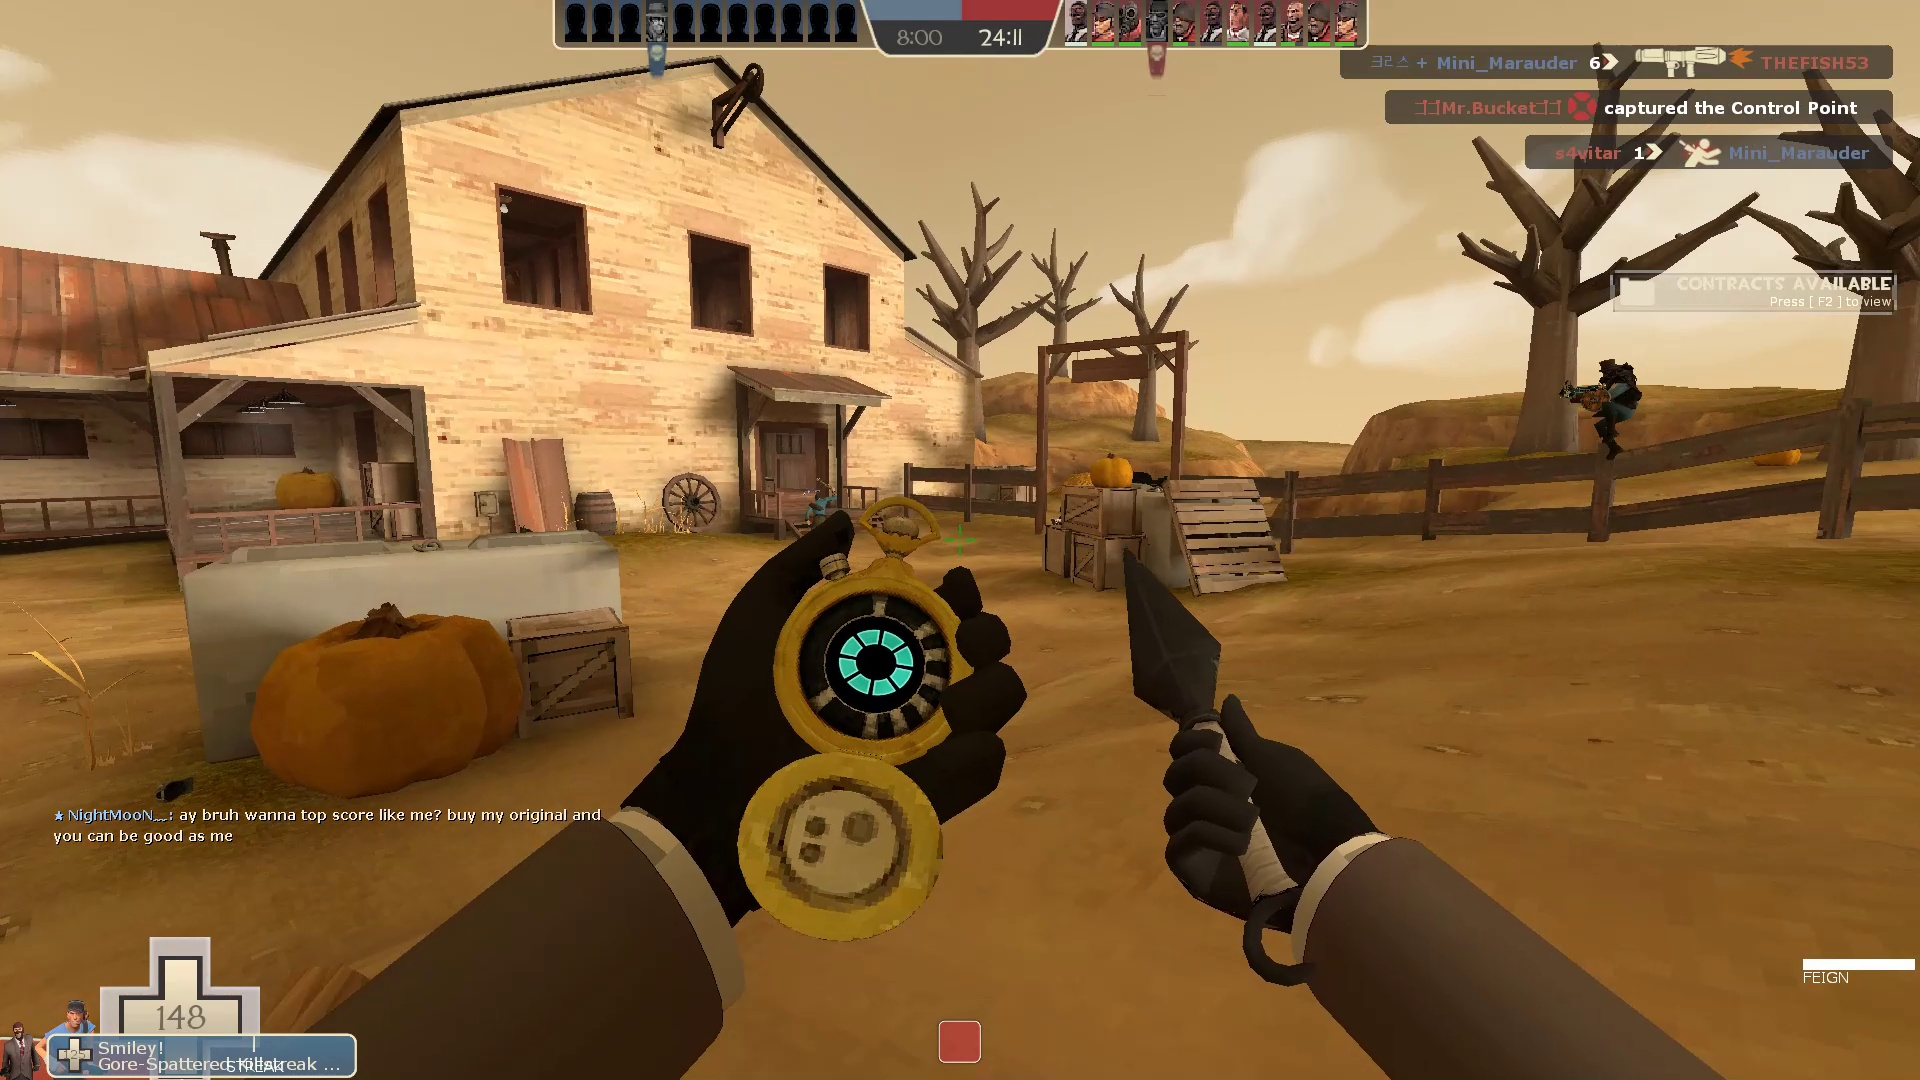blu_demo: (1551, 351, 1643, 465)
blu_scout: (798, 477, 841, 551)
